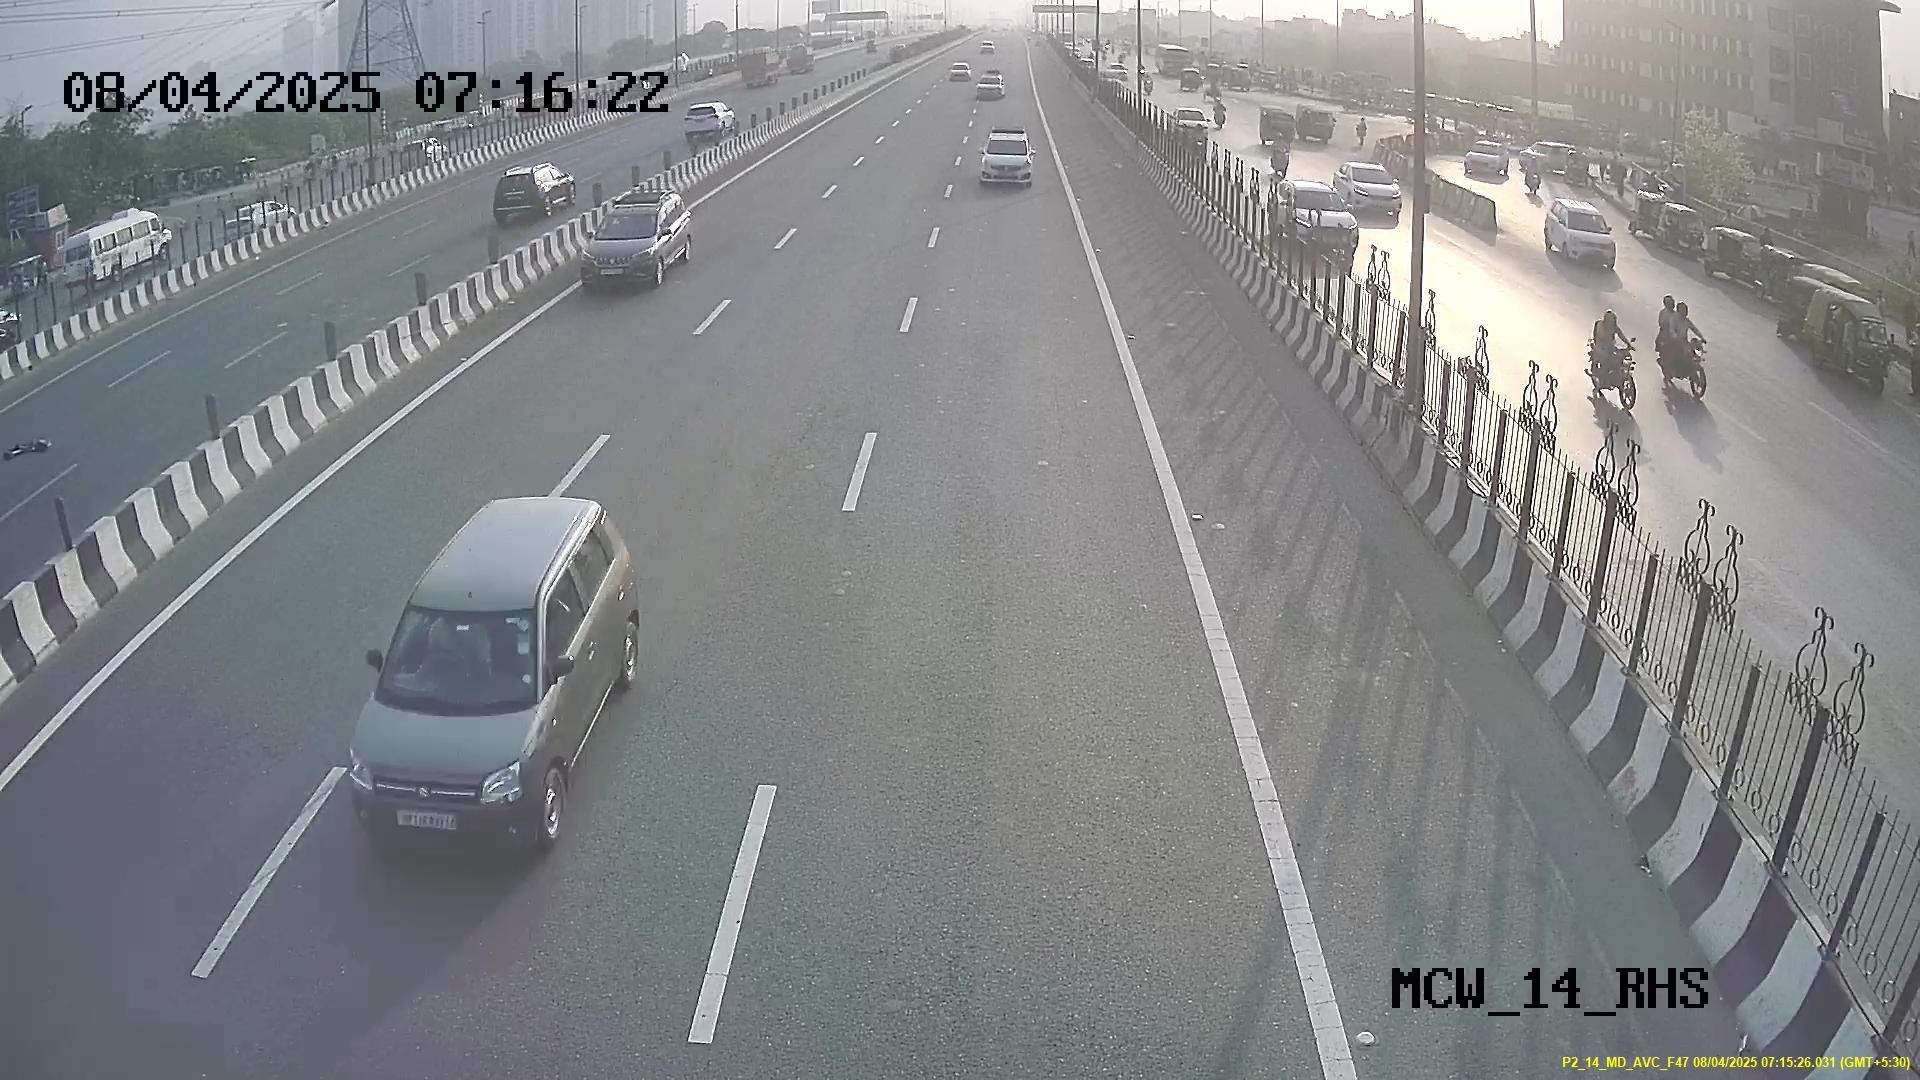car: (340, 567, 588, 858), (579, 195, 680, 290)
